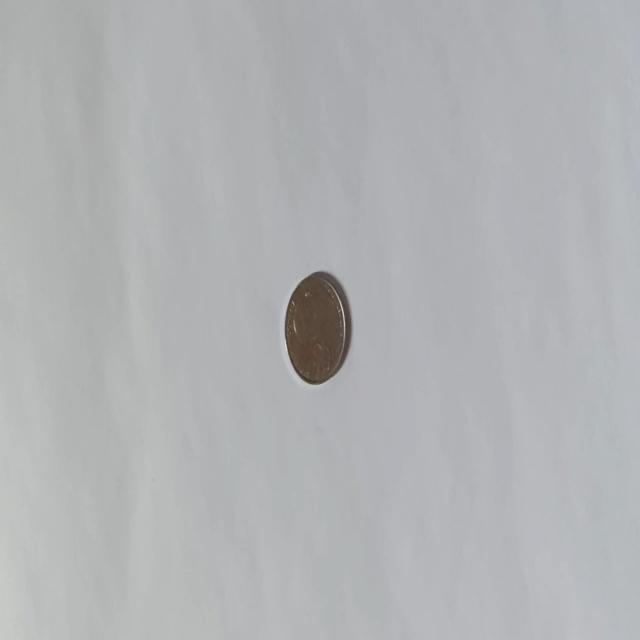seribu rupiah koin: (283, 268, 348, 386)
